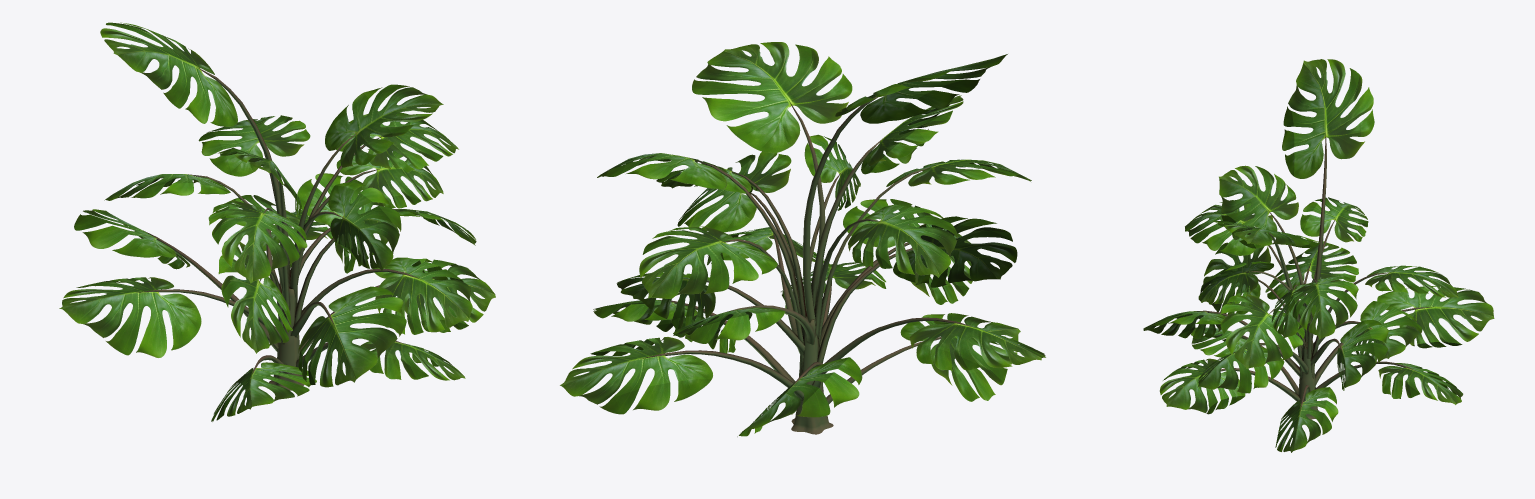
The model's file is tree19.fbx.
The picture shows the model from 3 angles, left to right: view 1: azimuth 30°, elevation 25°; view 2: azimuth 150°, elevation 25°; view 3: azimuth 270°, elevation 25°; orthographic projection. The views are drawn at different scales.
Parts seen in each view (by area): view 1: tree.007SM_MZRa_Monstera_B072; view 2: tree.007SM_MZRa_Monstera_B072; view 3: tree.007SM_MZRa_Monstera_B072.
Boxes of the visible parts, x1,y1,x2,y2 form: tree.007SM_MZRa_Monstera_B072: (59,22,495,421); tree.007SM_MZRa_Monstera_B072: (560,42,1045,436); tree.007SM_MZRa_Monstera_B072: (1143,59,1494,452).
Bounding box in the file's own units: 316 × 279 × 309.
